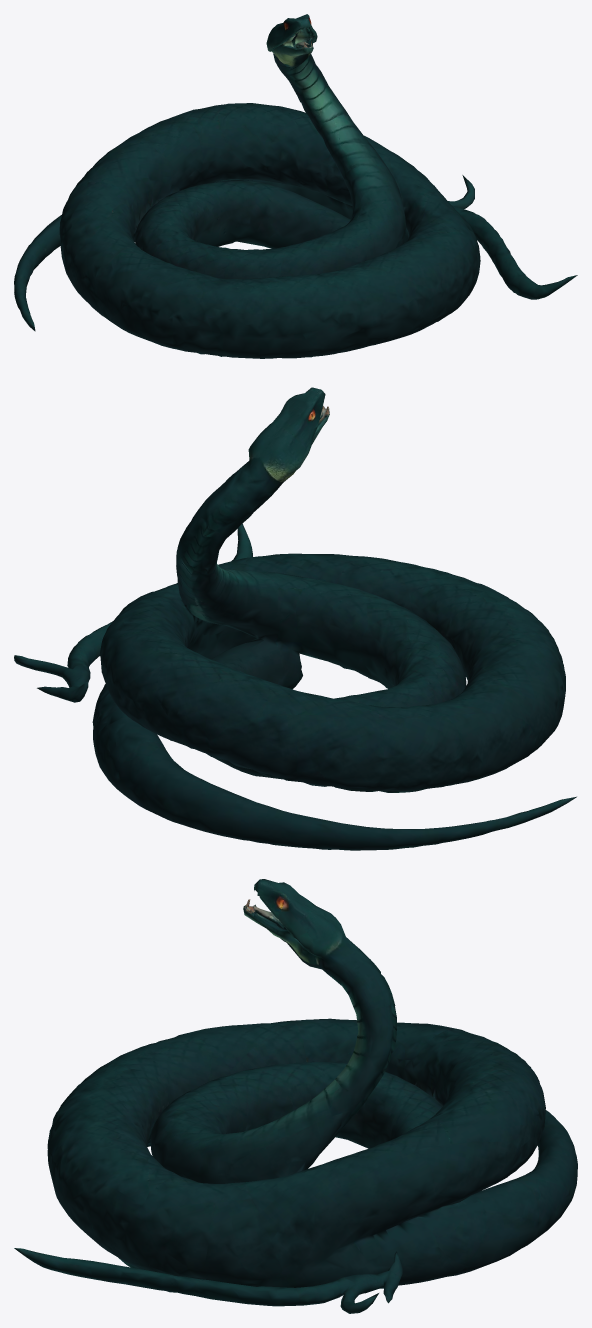
Rendered from snake.glb.
3 renders of one model, top to bottom at view 1: azimuth 30°, elevation 25°; view 2: azimuth 150°, elevation 25°; view 3: azimuth 270°, elevation 25°, orthographic. The views are drawn at different scales.
Size of the model in its own units: 1.9 by 1.11 by 1.68.
1 material, 1 textured.
